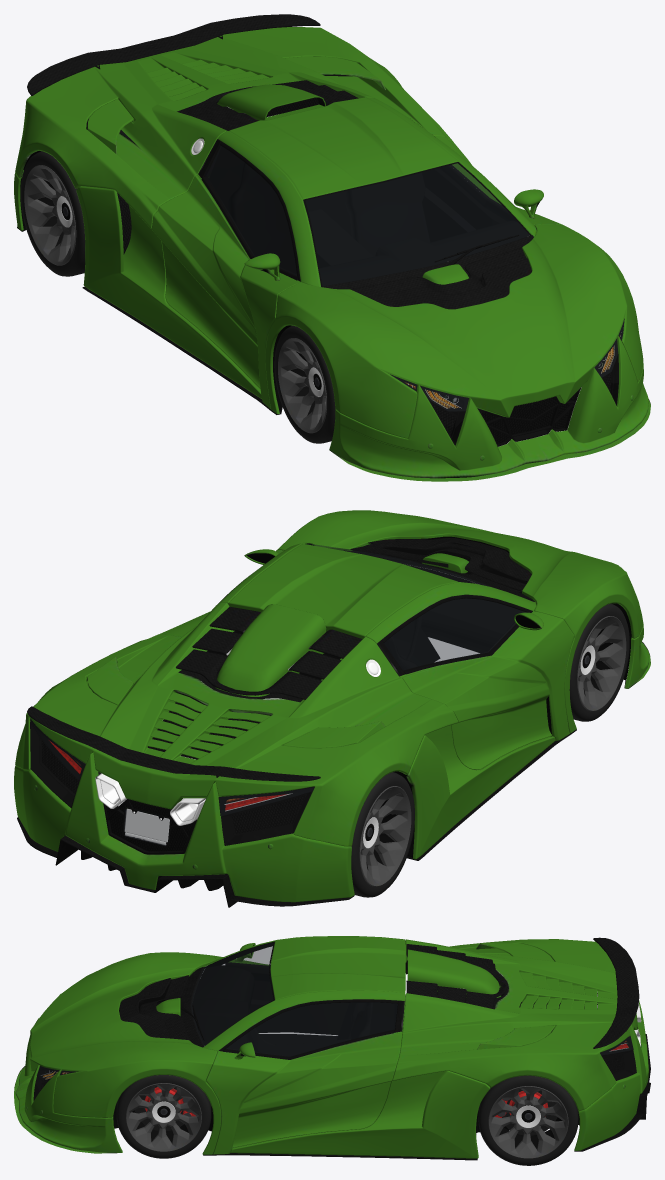
File: v12-goblin.glb
The picture shows the model from 3 angles, top to bottom: view 1: azimuth 30°, elevation 25°; view 2: azimuth 150°, elevation 25°; view 3: azimuth 270°, elevation 25°; orthographic projection. The views are drawn at different scales.
Parts seen in each view (by area): view 1: body, glass, trim, interior, wheel_rr_rim, wheel_fr_rim, wheel_rr_tyre, headlight, wheel_fr_tyre; view 2: body, trim, glass, taillight, interior, wheel_rr_rim, wheel_fr_rim, wheel_rr_tyre, wheel_fr_tyre, plate; view 3: body, trim, glass, interior, wheel_rl_rim, wheel_fl_rim, wheel_rl_tyre, wheel_fl_tyre, taillight, headlight.
Boxes of the visible parts, x1,y1,x2,y2 form: body: (14, 27, 650, 481); glass: (206, 146, 624, 411); trim: (17, 14, 650, 478); interior: (207, 97, 528, 286); wheel_rr_rim: (24, 165, 76, 265); wheel_fr_rim: (278, 338, 326, 433); wheel_rr_tyre: (20, 151, 85, 276); headlight: (393, 321, 623, 427); wheel_fr_tyre: (274, 325, 335, 443); body: (14, 510, 650, 902); trim: (17, 536, 650, 907); glass: (29, 543, 525, 815); taillight: (30, 719, 313, 843); interior: (307, 543, 523, 670); wheel_rr_rim: (359, 786, 411, 886); wheel_fr_rim: (577, 616, 626, 711); wheel_rr_tyre: (351, 772, 414, 897); wheel_fr_tyre: (569, 603, 629, 721); plate: (124, 808, 169, 846); body: (14, 936, 648, 1158); trim: (14, 937, 650, 1160); glass: (36, 942, 632, 1080); interior: (192, 942, 397, 1123); wheel_rl_rim: (488, 1086, 568, 1158); wheel_fl_rim: (126, 1083, 201, 1151); wheel_rl_tyre: (478, 1075, 578, 1165); wheel_fl_tyre: (116, 1075, 211, 1158); taillight: (600, 1036, 636, 1080); headlight: (34, 1066, 75, 1090).
Bounding box in the file's own units: 2.27 × 1.21 × 4.79.
10 materials, 8 textured.
